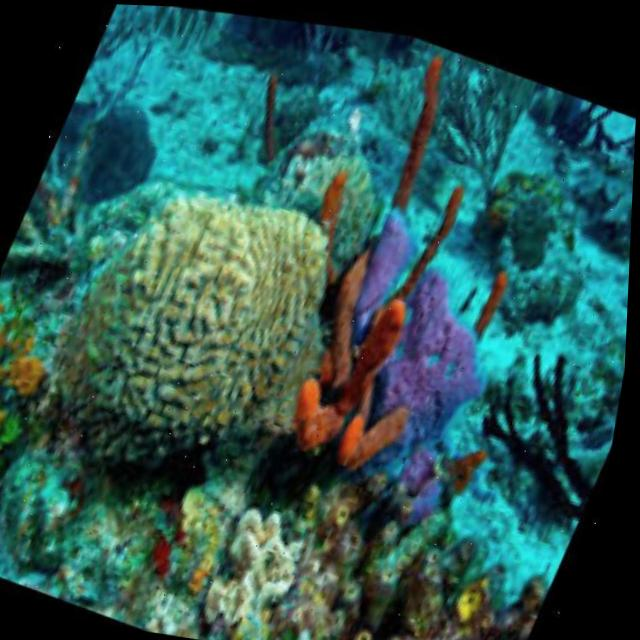Healthy Coral: (0, 104, 374, 531), (258, 188, 521, 550), (350, 456, 578, 640), (0, 292, 68, 500)
